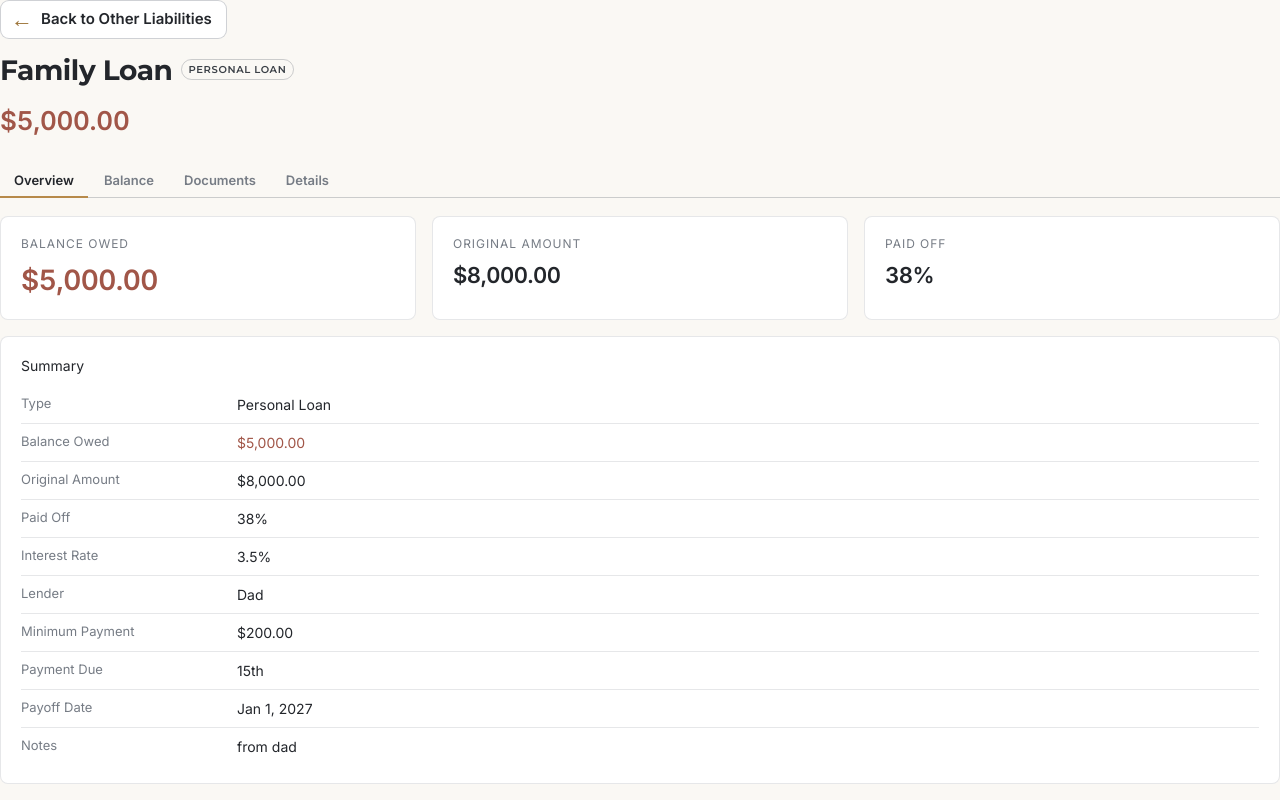
Test: LiabilityDetail page › hides the Current Balance field when tracks_balance is on and reveals it when toggled off
Expected: the heading "Family Loan Personal Loan" is shown, left=0, top=48, right=294, bottom=90
What coordinates should you click on to do the following:
click the button "Details"
I would click on:
 (307, 180)
Its box is left=272, top=164, right=343, bottom=198.
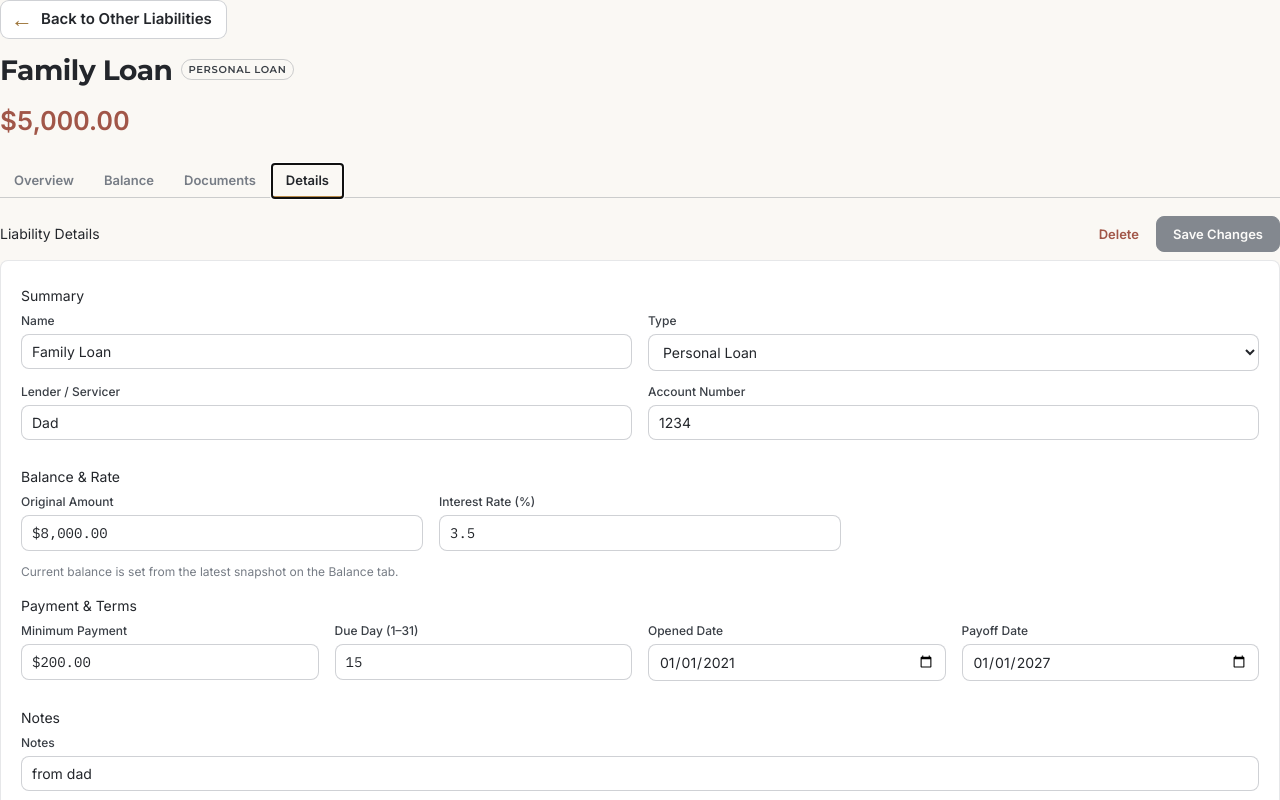
Expected: the text "Current balance is set from the latest snapshot" is shown, left=21, top=564, right=399, bottom=578
